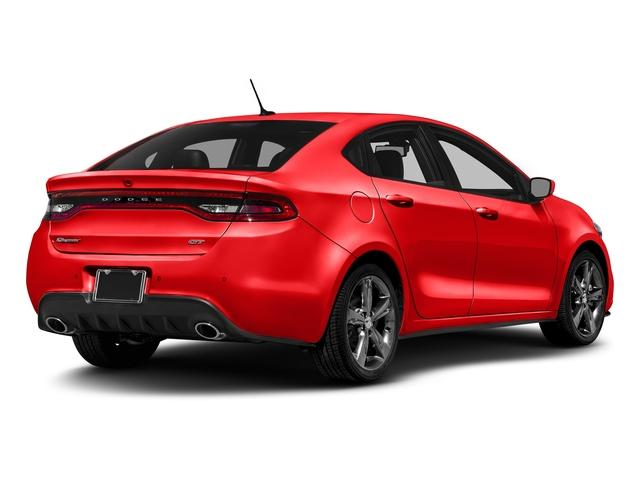dodge: (24, 79, 614, 386)
